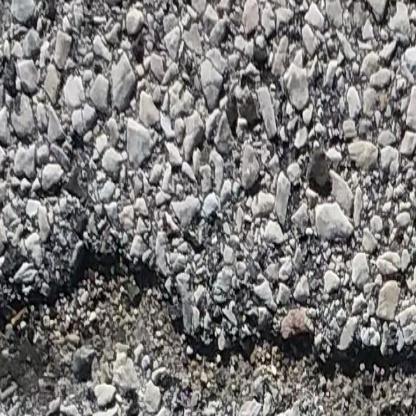Cracks: (0, 246, 416, 416)
